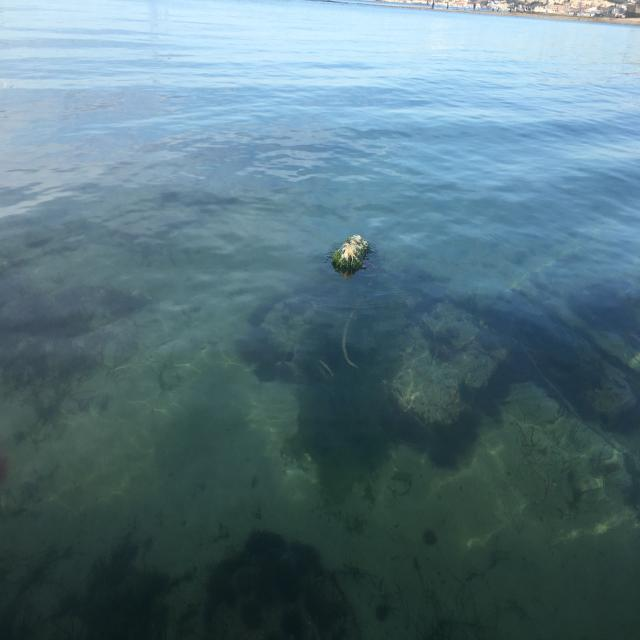Undefined trash: (324, 222, 377, 284)
